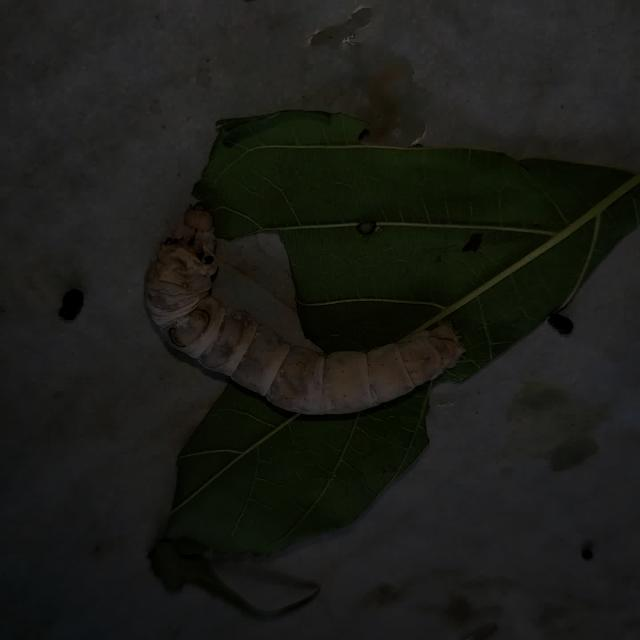Grasserie: (117, 182, 483, 424)
